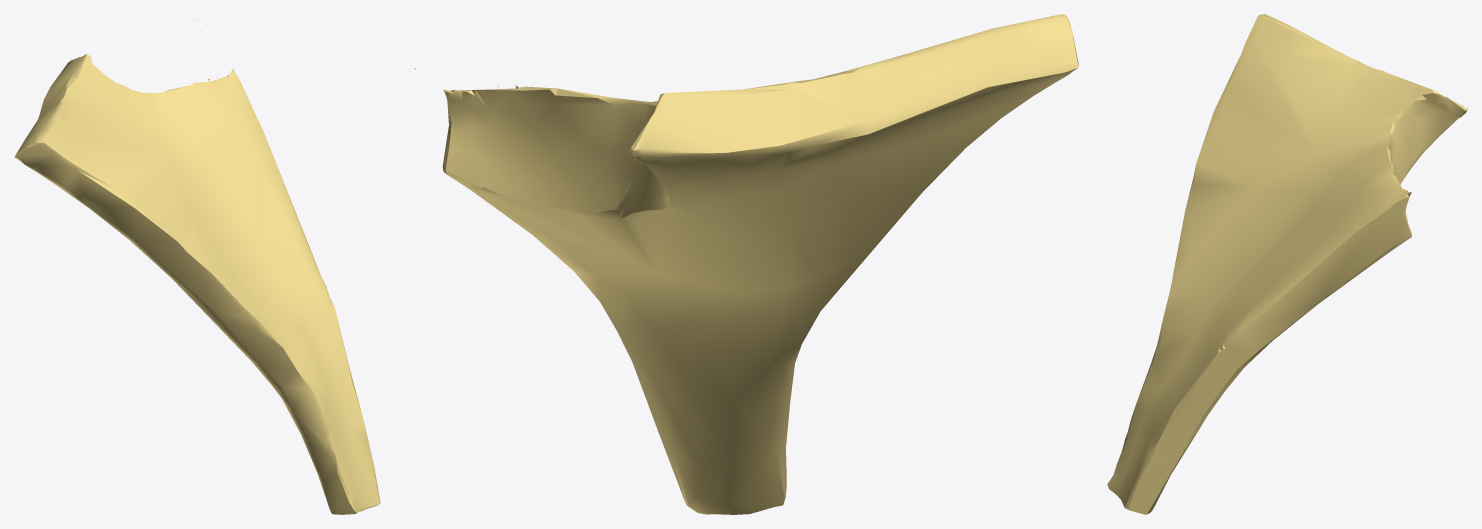
The model's file is fma62327_fj1828.glb.
3 renders of one model, left to right at view 1: azimuth 30°, elevation 25°; view 2: azimuth 150°, elevation 25°; view 3: azimuth 270°, elevation 25°, orthographic. The views are drawn at different scales.
Visible parts, largest first — view 1: FMA62327_FJ1828; view 2: FMA62327_FJ1828; view 3: FMA62327_FJ1828.
Boxes of the visible parts, x1=… form: FMA62327_FJ1828: x1=14, y1=19, x2=380, y2=514; FMA62327_FJ1828: x1=409, y1=14, x2=1078, y2=514; FMA62327_FJ1828: x1=1107, y1=14, x2=1467, y2=514.
Size of the model in its own units: 0.0086 by 0.011 by 0.00958.
